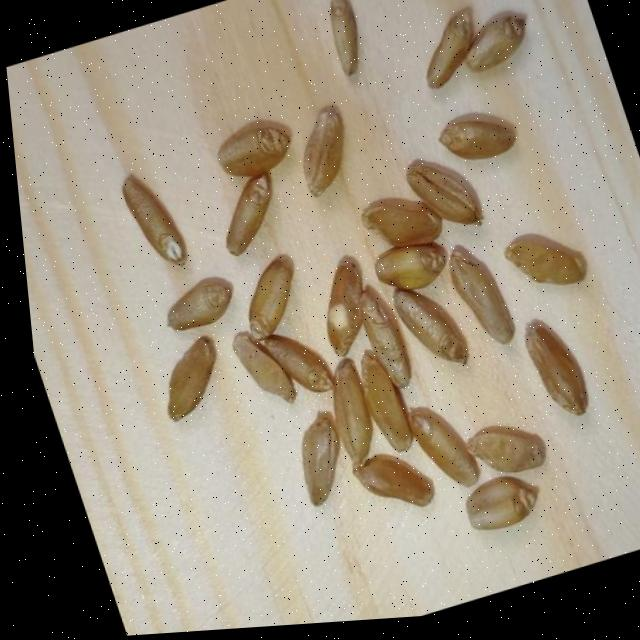wheat_grain: (448, 246, 514, 342), (120, 173, 188, 263), (524, 321, 588, 414), (394, 286, 469, 363), (406, 409, 480, 484), (360, 353, 412, 450), (408, 159, 483, 224), (358, 289, 409, 383), (232, 332, 295, 401), (261, 334, 335, 392), (217, 119, 290, 177), (331, 360, 371, 463), (354, 453, 434, 504), (167, 336, 215, 420), (506, 233, 586, 283), (466, 475, 540, 527), (463, 10, 524, 73), (226, 173, 273, 254), (361, 197, 442, 244), (467, 425, 546, 473), (426, 6, 472, 87), (248, 256, 292, 338), (327, 257, 363, 354), (304, 105, 343, 194), (440, 112, 515, 158), (167, 277, 231, 330), (301, 412, 337, 504), (375, 243, 446, 289), (329, 0, 359, 75)
